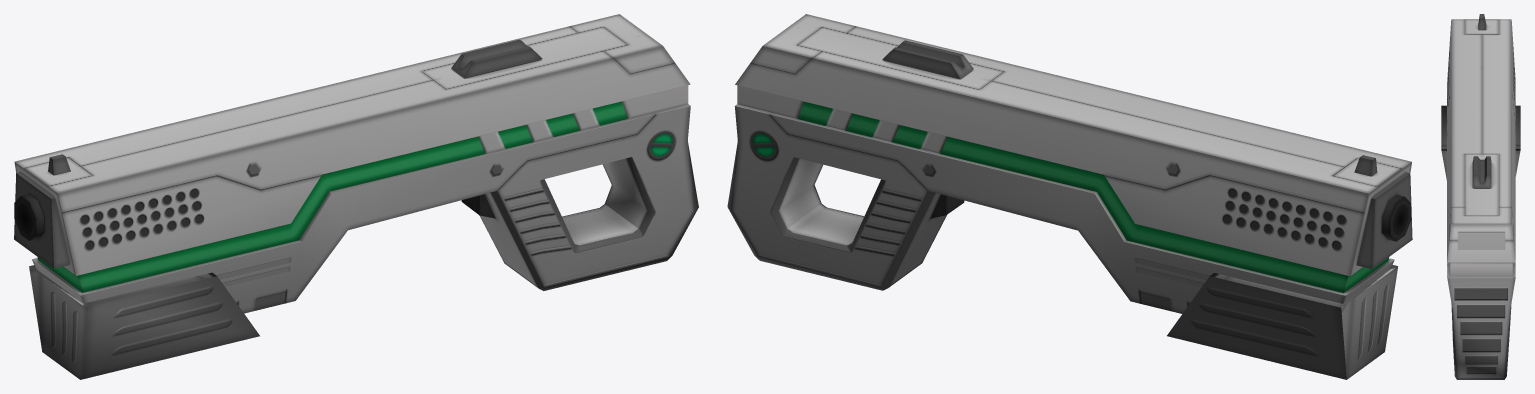
Rendered from ShotgunModel.fbx.
3 views of the same model, side by side, from view 1: azimuth 30°, elevation 25°; view 2: azimuth 150°, elevation 25°; view 3: azimuth 270°, elevation 25° (orthographic). The views are drawn at different scales.
Parts seen in each view (by area): view 1: machine gun, mag1; view 2: machine gun, mag1; view 3: machine gun, mag1.
Part boxes in pixels (bbox=[...]): machine gun: bbox=[14, 14, 698, 313]; mag1: bbox=[29, 265, 259, 379]; machine gun: bbox=[727, 14, 1412, 313]; mag1: bbox=[1167, 264, 1398, 379]; machine gun: bbox=[1447, 14, 1515, 379]; mag1: bbox=[1441, 105, 1520, 180].
Bounding box in the file's own units: 1.55 × 0.5311 × 0.2327.
